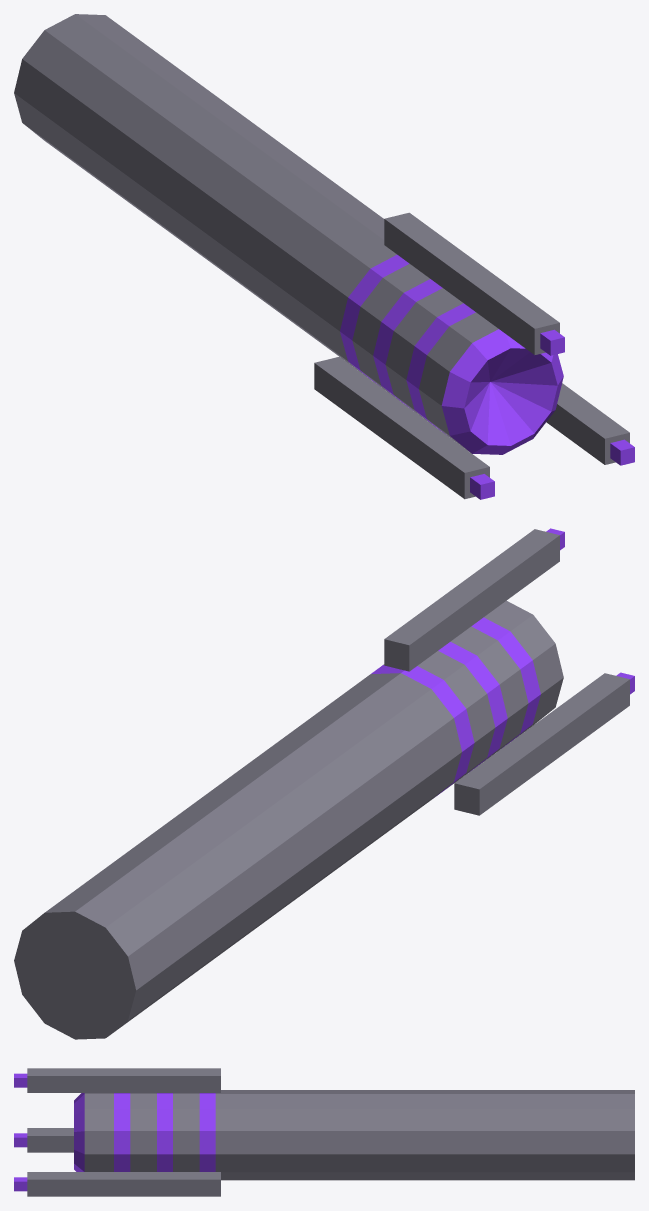
The model's file is lasergun_barrel.fbx.
3 renders of one model, top to bottom at view 1: azimuth 30°, elevation 25°; view 2: azimuth 150°, elevation 25°; view 3: azimuth 270°, elevation 25°, orthographic. The views are drawn at different scales.
Parts seen in each view (by area): view 1: lasergun_barrel; view 2: lasergun_barrel; view 3: lasergun_barrel.
Part boxes in pixels (left/top/right/bottom): lasergun_barrel: left=14, top=14, right=634, bottom=499; lasergun_barrel: left=14, top=528, right=634, bottom=1039; lasergun_barrel: left=14, top=1068, right=634, bottom=1196.
Bounding box in the file's own units: 0.0919 × 0.086 × 0.465.
